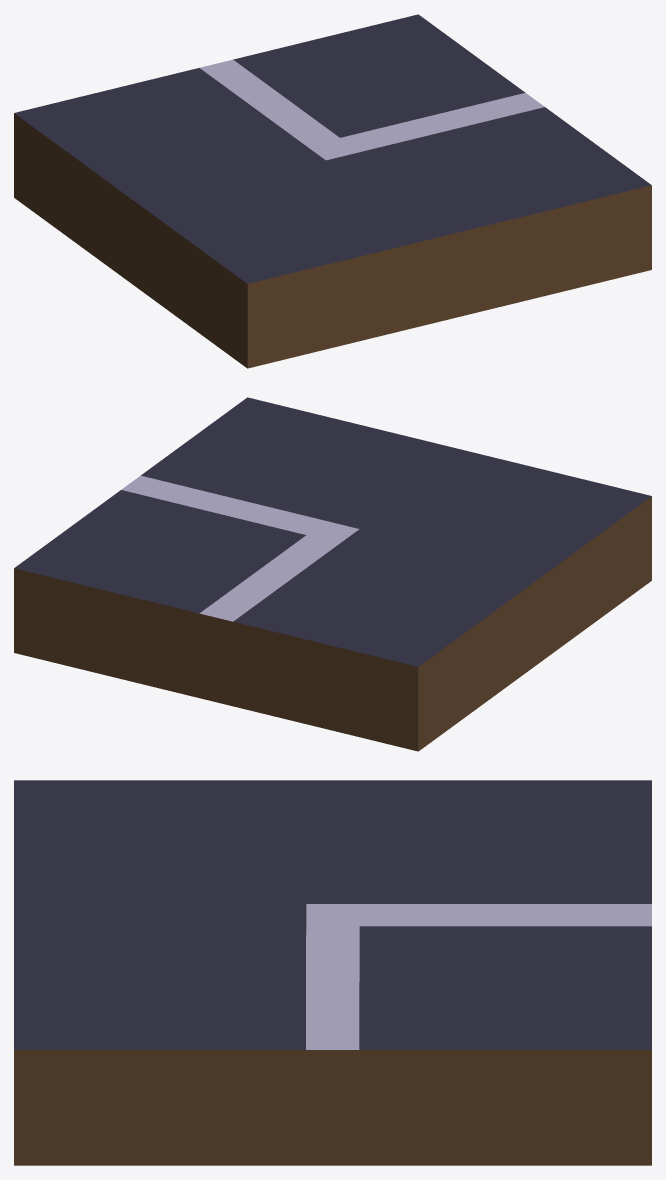
The model's file is road_1_car_line_corner.fbx.
The picture shows the model from 3 angles, top to bottom: view 1: azimuth 30°, elevation 25°; view 2: azimuth 150°, elevation 25°; view 3: azimuth 270°, elevation 25°; orthographic projection. The views are drawn at different scales.
Visible parts, largest first — view 1: Cube.042; view 2: Cube.042; view 3: Cube.042.
Boxes of the visible parts, x1,y1,x2,y2 form: Cube.042: (14,14,651,368); Cube.042: (14,397,651,751); Cube.042: (14,780,651,1165).
Bounding box in the file's own units: 1000 × 200 × 1000.
Materials: 1 (1 with a texture image).
